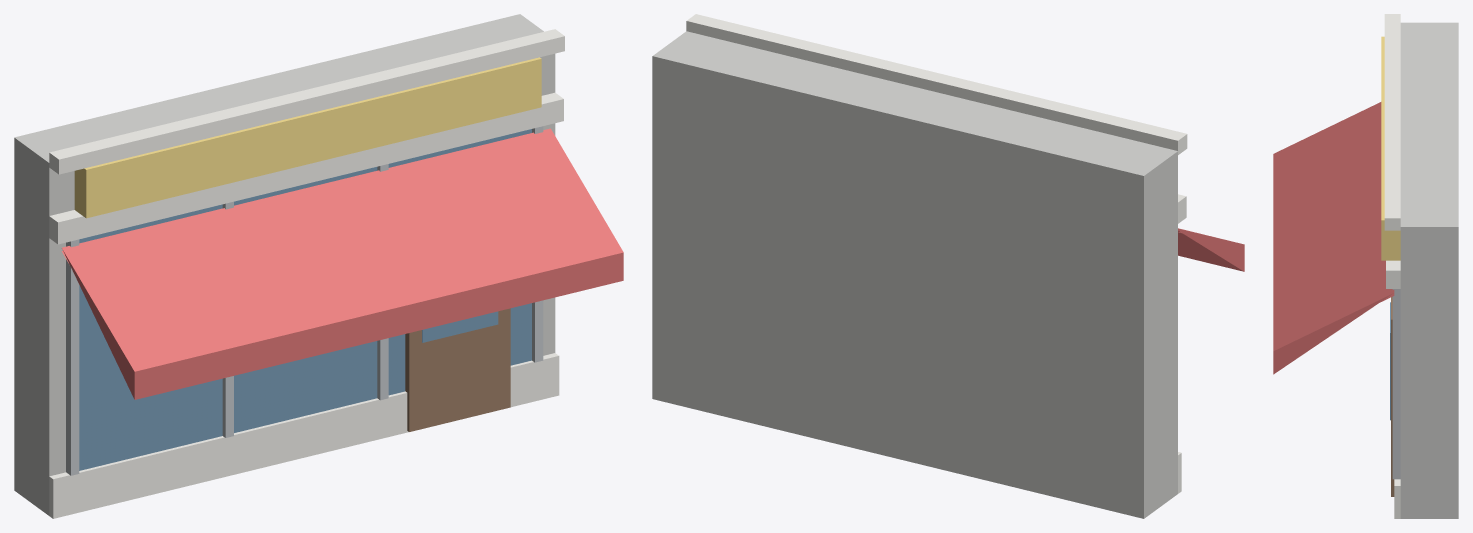
File: storefront_half.glb
3 views of the same model, side by side, from view 1: azimuth 30°, elevation 25°; view 2: azimuth 150°, elevation 25°; view 3: azimuth 270°, elevation 25° (orthographic). The views are drawn at different scales.
Parts seen in each view (by area): view 1: storefront_half; view 2: storefront_half; view 3: storefront_half.
Boxes of the visible parts, left/top/right/bottom form: storefront_half: left=14, top=14, right=623, bottom=518; storefront_half: left=652, top=14, right=1244, bottom=518; storefront_half: left=1273, top=14, right=1458, bottom=518.
Bounding box in the file's own units: 6 × 4.12 × 2.3.
